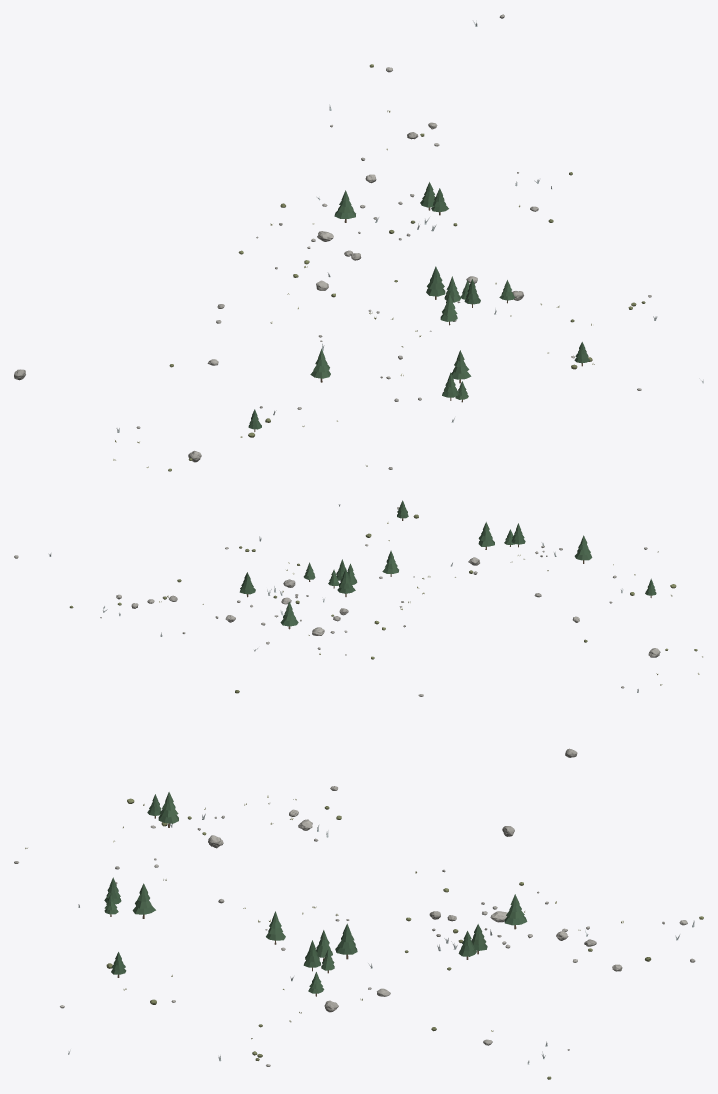
The model's file is coast_land_scatter_c10_18.glb.
The picture shows the model from 3 angles, top to bottom: view 1: azimuth 30°, elevation 25°; view 2: azimuth 150°, elevation 25°; view 3: azimuth 270°, elevation 25°; orthographic projection. The views are drawn at different scales.
Parts seen in each view (by area): view 1: coast_land_scatter_c10_18; view 2: coast_land_scatter_c10_18; view 3: coast_land_scatter_c10_18.
Boxes of the visible parts, x1,y1,x2,y2 form: coast_land_scatter_c10_18: [14, 14, 703, 471]; coast_land_scatter_c10_18: [14, 500, 702, 757]; coast_land_scatter_c10_18: [14, 786, 703, 1079].
Size of the model in its own units: 250 by 67.63 by 232.
